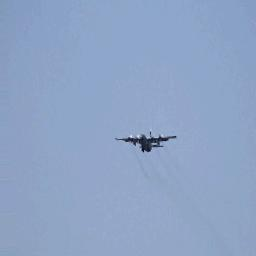Airplane: (115, 130, 177, 153)
